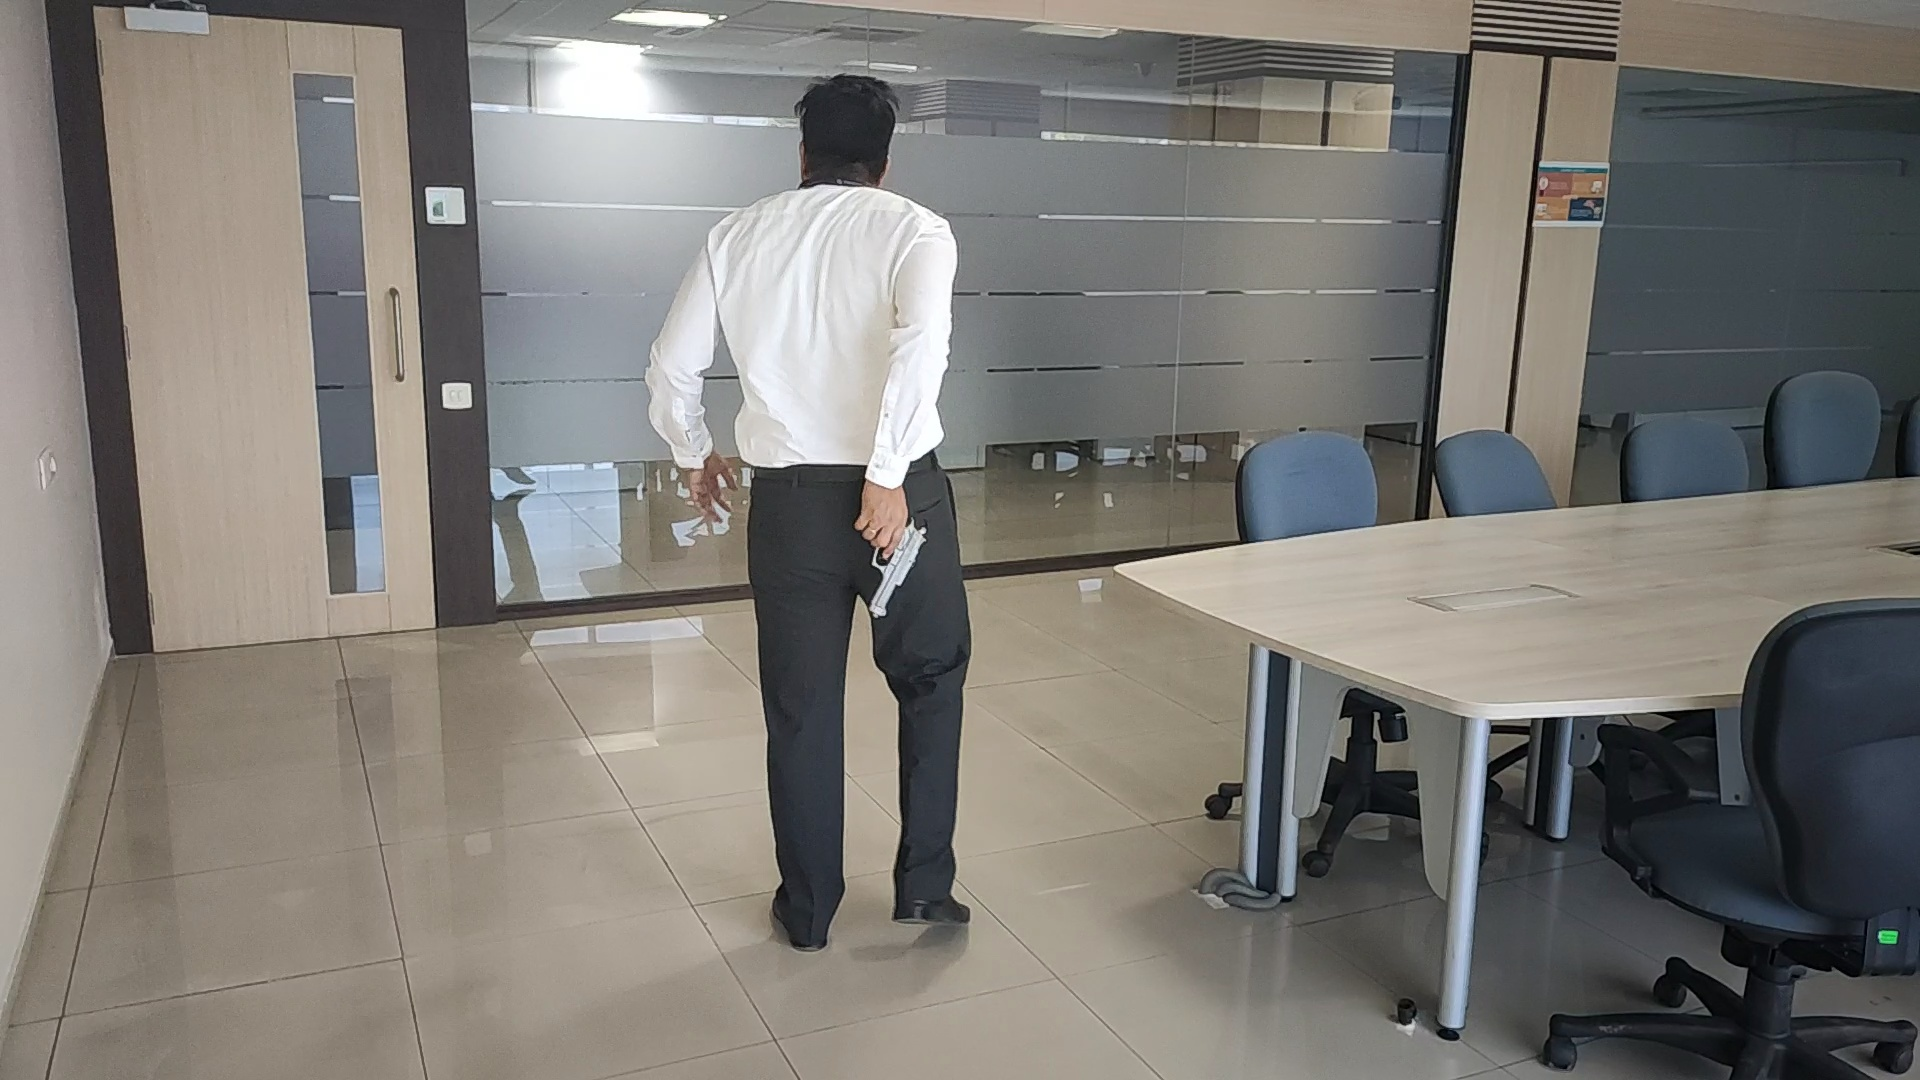gun: (866, 522, 928, 618)
